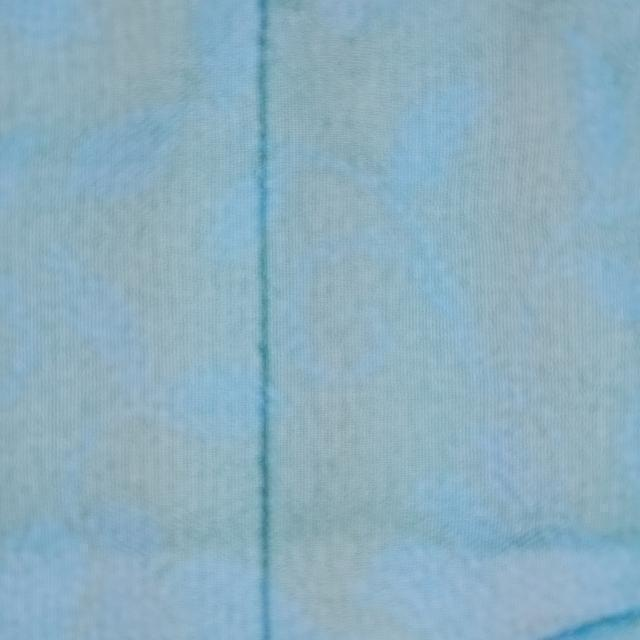pulled_or_thick_thread: (250, 0, 281, 636)
